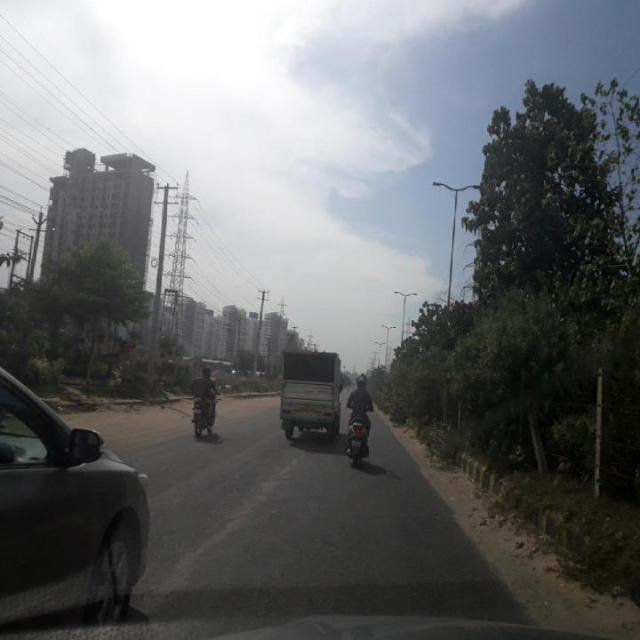D20: (183, 457, 460, 627)
